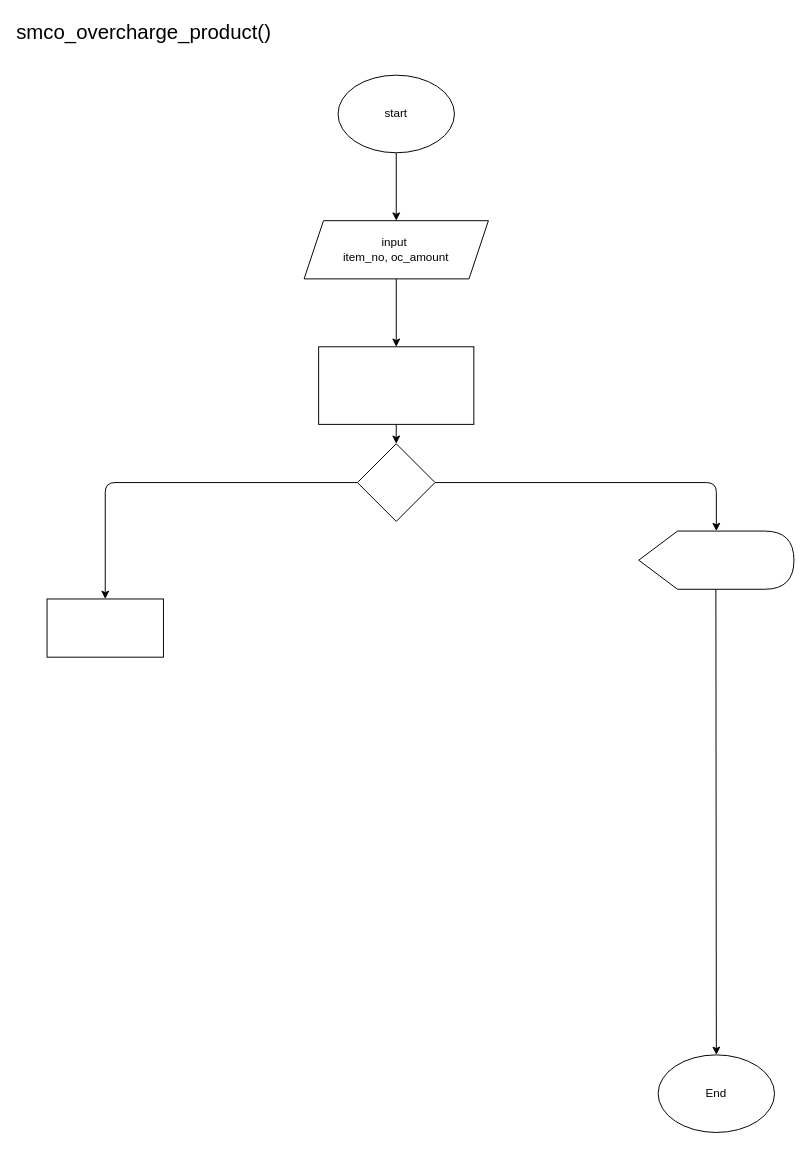
The diagram is 811 pixels wide and 1149 high, and some of its shapes have lost their labels. The shapes that lost their labels are listed below. From the top down, each one's box as (x1, y1, x2, y2) in pixels, then its label:
(318, 346, 474, 424): if item_no & oc_amount?
(638, 530, 794, 589): "you must fill all required input"
